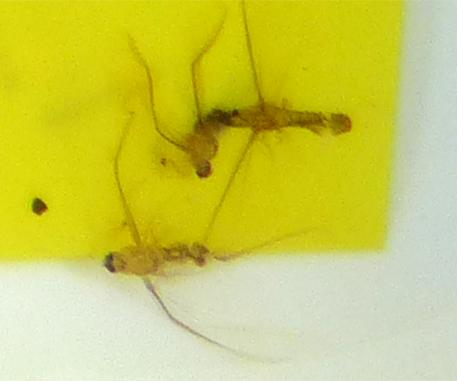Ephemeroptera: (100, 209, 236, 281), (219, 100, 357, 147), (179, 104, 237, 183)
